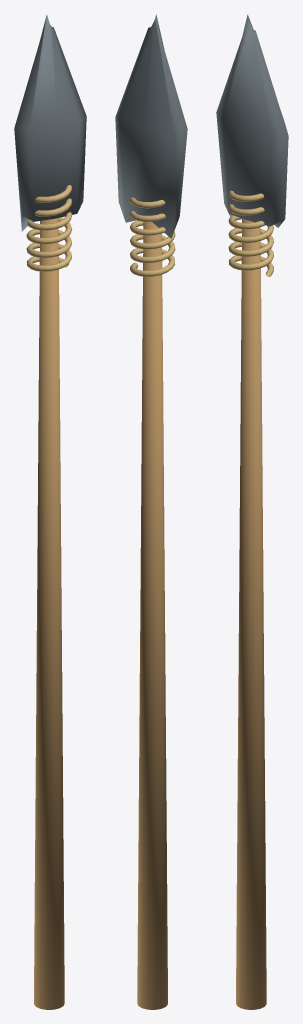
The model's file is spear_heavy.glb.
3 views of the same model, side by side, from view 1: azimuth 30°, elevation 25°; view 2: azimuth 150°, elevation 25°; view 3: azimuth 330°, elevation 25° (orthographic).
Parts seen in each view (by area): view 1: spear_shaft, spear_head, spear_lashing; view 2: spear_shaft, spear_head, spear_lashing; view 3: spear_shaft, spear_head, spear_lashing.
Boxes of the visible parts, box(x1,y1,x2,y2) form: spear_shaft: box(34, 218, 64, 1009); spear_head: box(14, 14, 86, 231); spear_lashing: box(26, 185, 72, 271); spear_shaft: box(137, 222, 167, 1009); spear_head: box(115, 14, 187, 238); spear_lashing: box(130, 197, 175, 276); spear_shaft: box(236, 218, 266, 1009); spear_head: box(216, 14, 288, 227); spear_lashing: box(228, 190, 273, 276).
Bounding box in the file's own units: 0.1689 × 2.21 × 0.0924.
